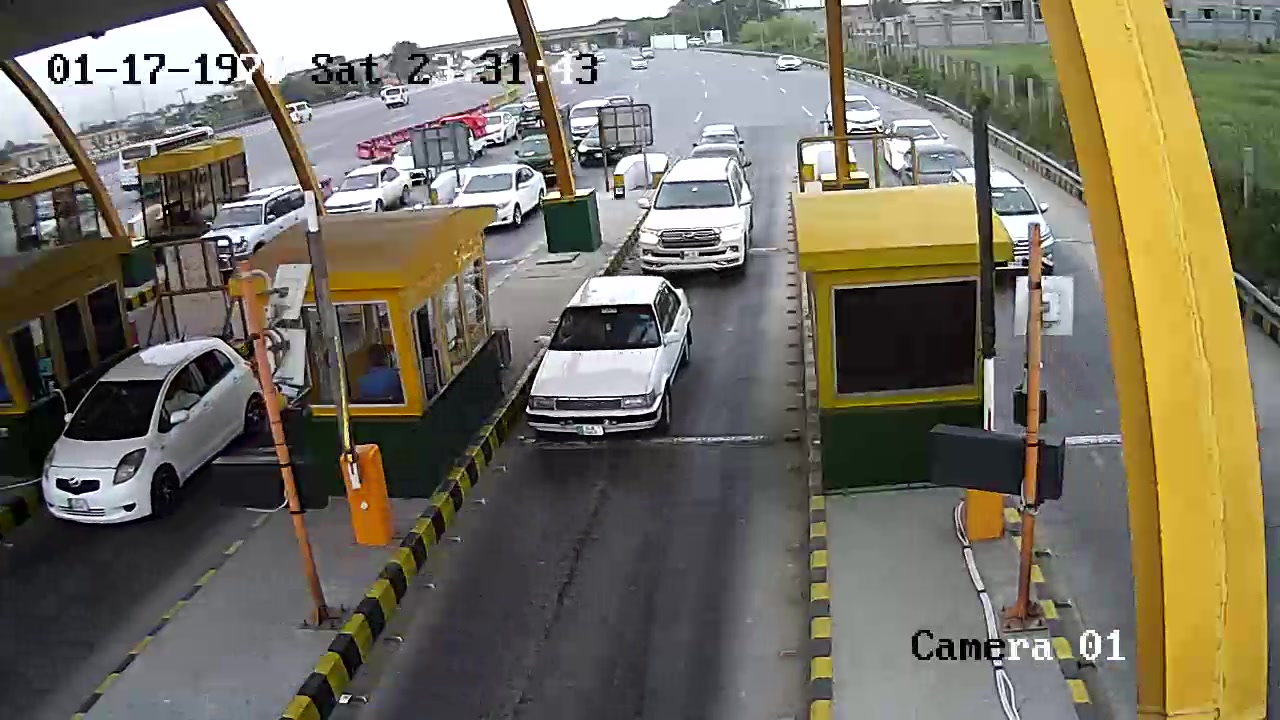F1: (523, 277, 703, 446), (631, 155, 761, 276)
